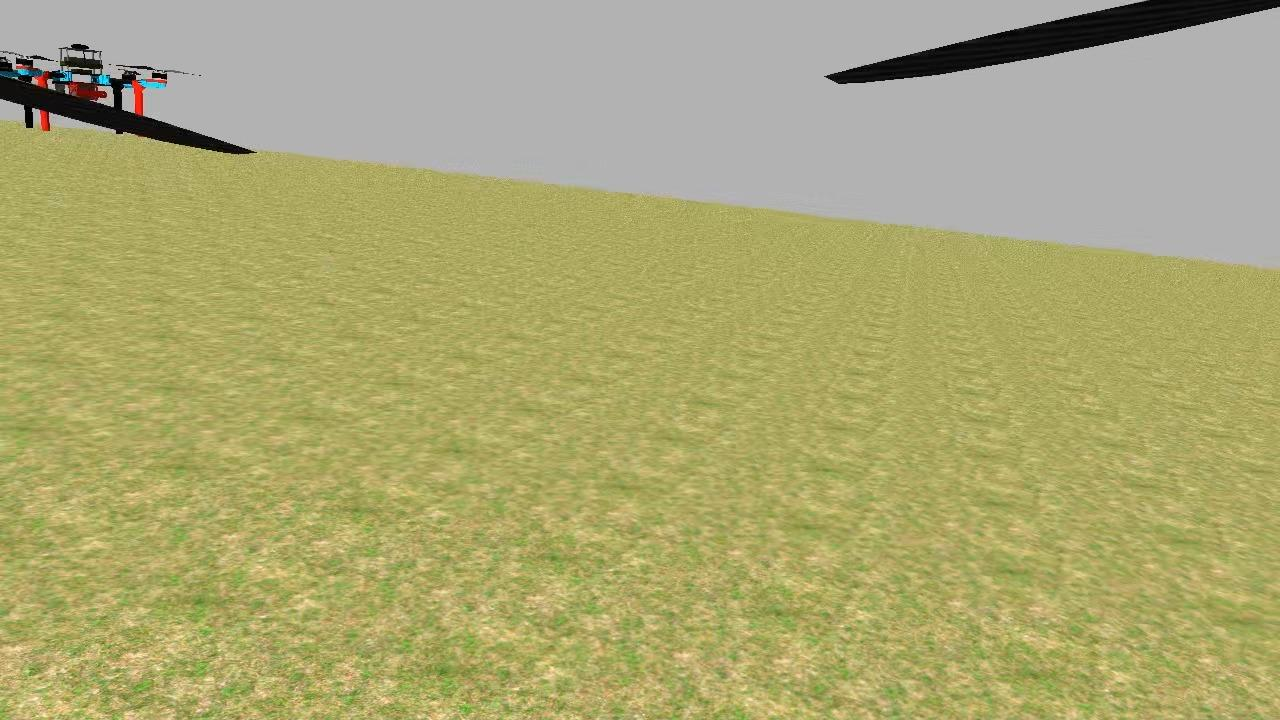UAV: (0, 35, 182, 142)
